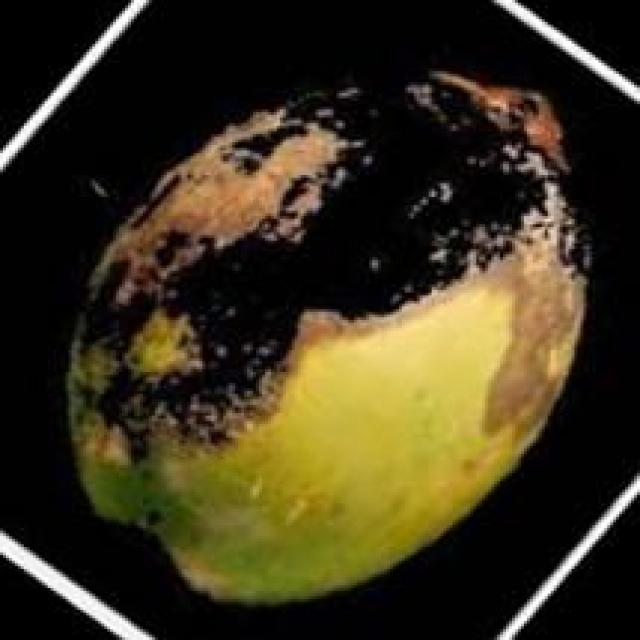damaged: (63, 71, 592, 610)
